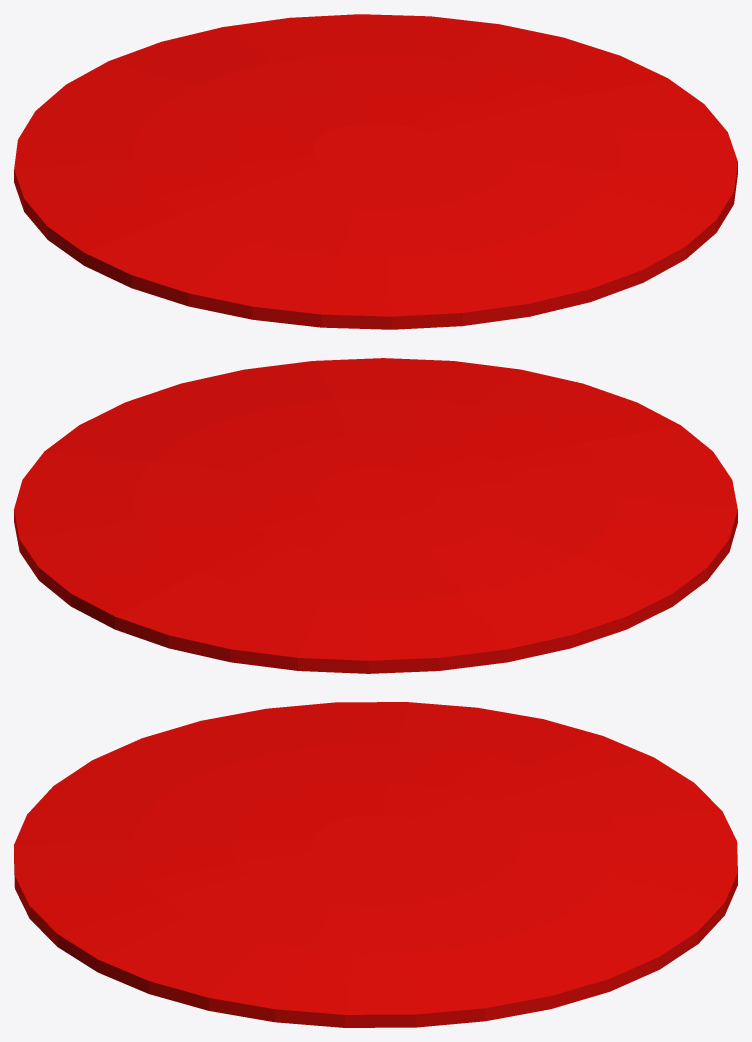
File: destroyer.fbx
3 views of the same model, one above another, from view 1: azimuth 30°, elevation 25°; view 2: azimuth 150°, elevation 25°; view 3: azimuth 270°, elevation 25° (orthographic).
Visible parts, largest first — view 1: Cylinder; view 2: Cylinder; view 3: Cylinder.
Boxes of the visible parts, x1,y1,x2,y2 form: Cylinder: (14,14,737,329); Cylinder: (14,358,737,673); Cylinder: (14,702,737,1027).
Bounding box in the file's own units: 13.68 × 0.6948 × 13.67.
